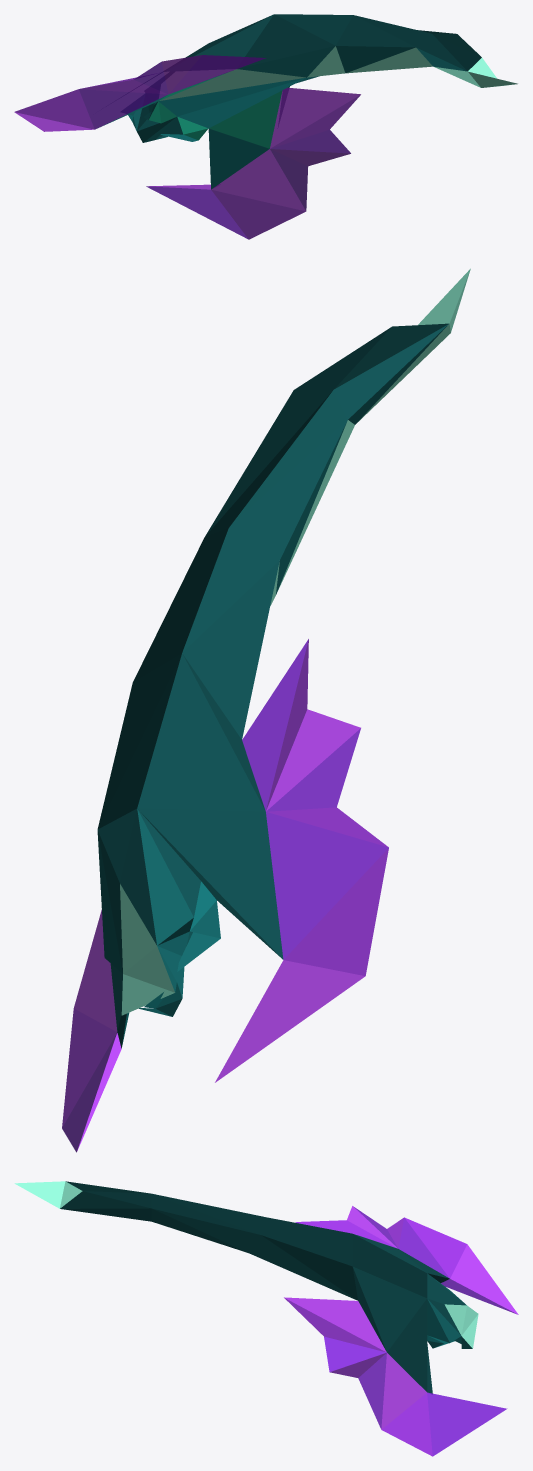
The model's file is player_toxic_blowpipe.glb.
3 renders of one model, top to bottom at view 1: azimuth 30°, elevation 25°; view 2: azimuth 150°, elevation 25°; view 3: azimuth 270°, elevation 25°, orthographic. The views are drawn at different scales.
Bounding box in the file's own units: 40.02 × 53.01 × 87.99.
2 materials, 2 textured.
